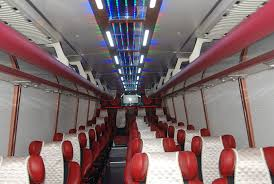seat: (131, 145, 201, 183)
